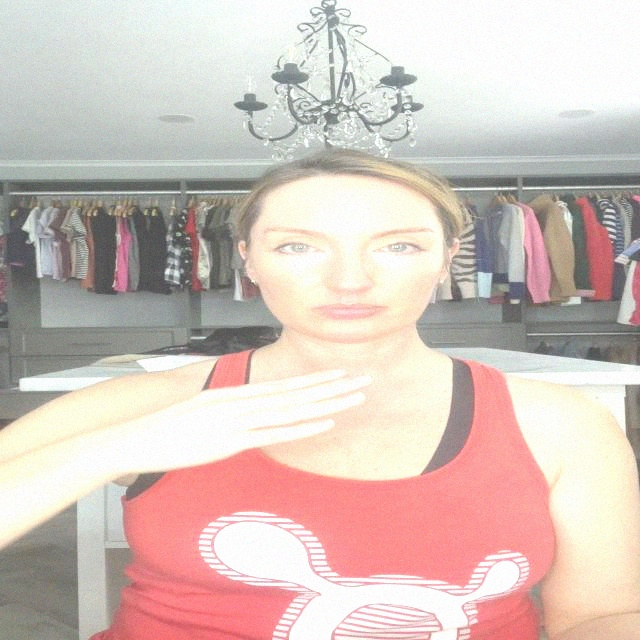Paper: (97, 362, 370, 471)
